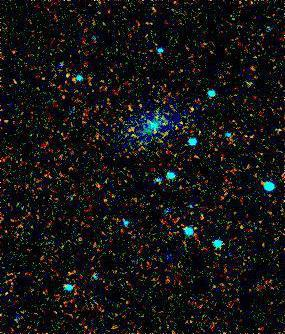star: (175, 95, 205, 125)
